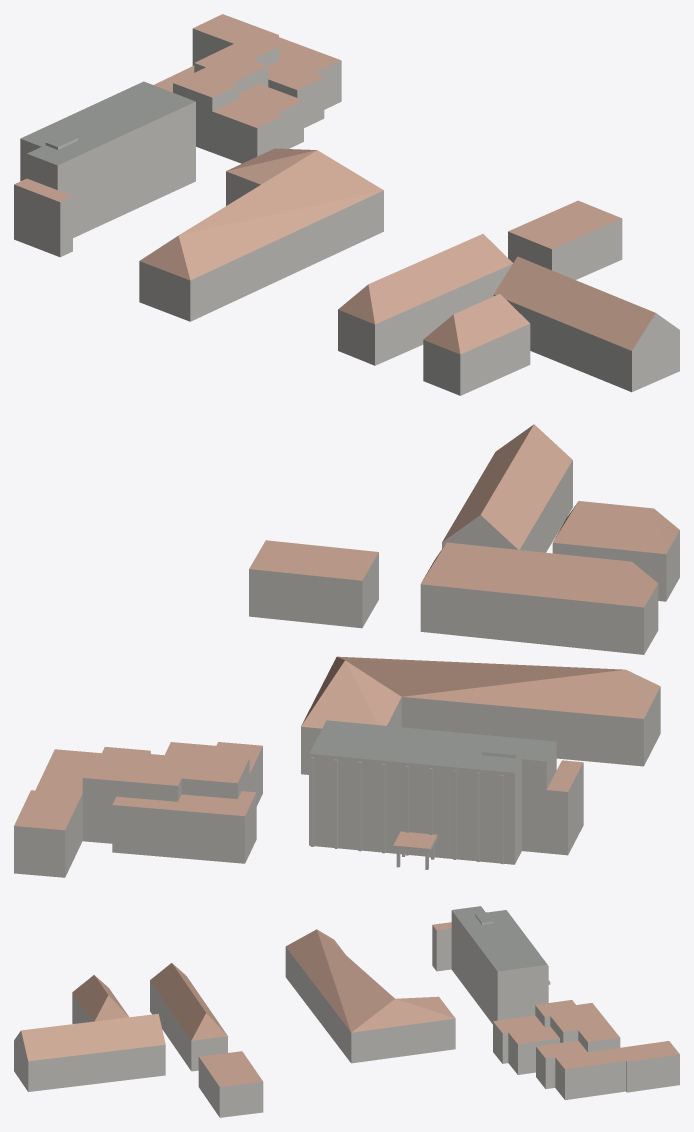
File: gridID_52.dae
The picture shows the model from 3 angles, top to bottom: view 1: azimuth 30°, elevation 25°; view 2: azimuth 150°, elevation 25°; view 3: azimuth 270°, elevation 25°; orthographic projection. The views are drawn at different scales.
Parts seen in each view (by area): view 1: model_gridID_52_w376352655, model_gridID_52_w377129096, model_gridID_52_w376378552_002, model_gridID_52_w376378546_010, model_gridID_52_w376378553, model_gridID_52_w376378552_001, model_gridID_52_w376352632_001, model_gridID_52_w376352632_003, model_gridID_52_w376352632, model_gridID_52_w376352632_002, model_gridID_52_w376352632_004, model_gridID_52_w376352632_005; view 2: model_gridID_52_w377129096, model_gridID_52_w376352655, model_gridID_52_w376378546_010, model_gridID_52_w376378552_002, model_gridID_52_w376378552_001, model_gridID_52_w376352632_006, model_gridID_52_w376352632_001, model_gridID_52_w376378553, model_gridID_52_w376352632, model_gridID_52_w376352632_004, model_gridID_52_w376352632_003; view 3: model_gridID_52_w376352655, model_gridID_52_w377129096, model_gridID_52_w376378552_002, model_gridID_52_w376378546_010, model_gridID_52_w376378552_001, model_gridID_52_w376352632, model_gridID_52_w376352632_004, model_gridID_52_w376352632_001, model_gridID_52_w376378553, model_gridID_52_w376352632_005, model_gridID_52_w376352632_002, model_gridID_52_w376352632_003 (+1 smaller).
Boxes of the visible parts, x1=… form: model_gridID_52_w376352655: x1=139, y1=148, x2=383, y2=321; model_gridID_52_w377129096: x1=14, y1=81, x2=195, y2=257; model_gridID_52_w376378552_002: x1=493, y1=256, x2=679, y2=392; model_gridID_52_w376378546_010: x1=338, y1=234, x2=512, y2=365; model_gridID_52_w376378553: x1=423, y1=294, x2=530, y2=395; model_gridID_52_w376378552_001: x1=508, y1=200, x2=622, y2=279; model_gridID_52_w376352632_001: x1=173, y1=36, x2=279, y2=152; model_gridID_52_w376352632_003: x1=212, y1=99, x2=283, y2=163; model_gridID_52_w376352632: x1=192, y1=14, x2=289, y2=65; model_gridID_52_w376352632_002: x1=268, y1=60, x2=324, y2=127; model_gridID_52_w376352632_004: x1=279, y1=41, x2=341, y2=109; model_gridID_52_w376352632_005: x1=238, y1=84, x2=303, y2=148; model_gridID_52_w377129096: x1=309, y1=720, x2=583, y2=869; model_gridID_52_w376352655: x1=301, y1=656, x2=660, y2=774; model_gridID_52_w376378546_010: x1=420, y1=542, x2=658, y2=654; model_gridID_52_w376378552_002: x1=442, y1=424, x2=572, y2=552; model_gridID_52_w376378552_001: x1=249, y1=540, x2=378, y2=628; model_gridID_52_w376352632_006: x1=112, y1=791, x2=256, y2=863; model_gridID_52_w376352632_001: x1=82, y1=753, x2=249, y2=843; model_gridID_52_w376378553: x1=552, y1=501, x2=679, y2=601; model_gridID_52_w376352632: x1=14, y1=782, x2=82, y2=877; model_gridID_52_w376352632_004: x1=39, y1=749, x2=101, y2=785; model_gridID_52_w376352632_003: x1=212, y1=742, x2=262, y2=806; model_gridID_52_w376352655: x1=285, y1=929, x2=455, y2=1063; model_gridID_52_w377129096: x1=432, y1=906, x2=550, y2=1024; model_gridID_52_w376378552_002: x1=14, y1=1013, x2=165, y2=1091; model_gridID_52_w376378546_010: x1=150, y1=963, x2=227, y2=1071; model_gridID_52_w376378552_001: x1=198, y1=1051, x2=263, y2=1117; model_gridID_52_w376352632: x1=604, y1=1041, x2=679, y2=1093; model_gridID_52_w376352632_004: x1=555, y1=1050, x2=613, y2=1100; model_gridID_52_w376352632_001: x1=535, y1=1000, x2=614, y2=1052; model_gridID_52_w376378553: x1=72, y1=975, x2=128, y2=1023; model_gridID_52_w376352632_005: x1=508, y1=1026, x2=559, y2=1074; model_gridID_52_w376352632_002: x1=536, y1=1040, x2=587, y2=1088; model_gridID_52_w376352632_003: x1=493, y1=1015, x2=544, y2=1063.
Size of the model in its own units: 82.72 by 147 by 15.
